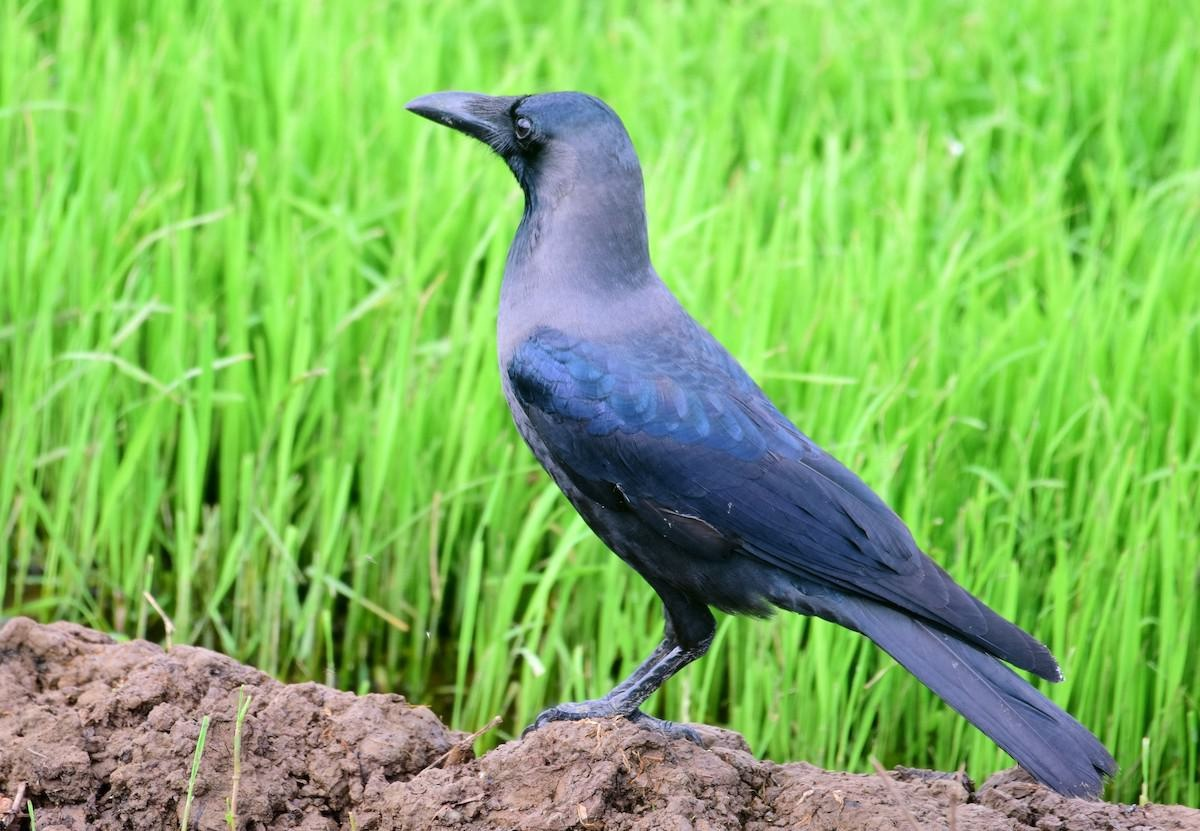crow: (390, 62, 1105, 809)
